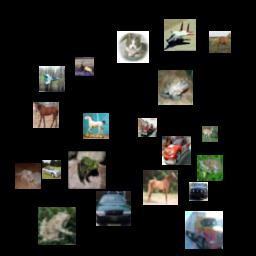airplane: (164, 19, 196, 51), (39, 66, 65, 92)
automobile: (96, 191, 131, 226), (162, 136, 191, 165), (189, 182, 208, 201), (42, 160, 61, 179)
cat: (117, 31, 149, 63)
deer: (197, 155, 223, 181), (75, 57, 94, 76), (202, 126, 218, 142)
dog: (15, 163, 41, 189)
frog: (38, 207, 76, 245), (68, 151, 106, 189), (158, 70, 193, 105)
truck: (185, 211, 223, 249), (138, 118, 157, 137)
